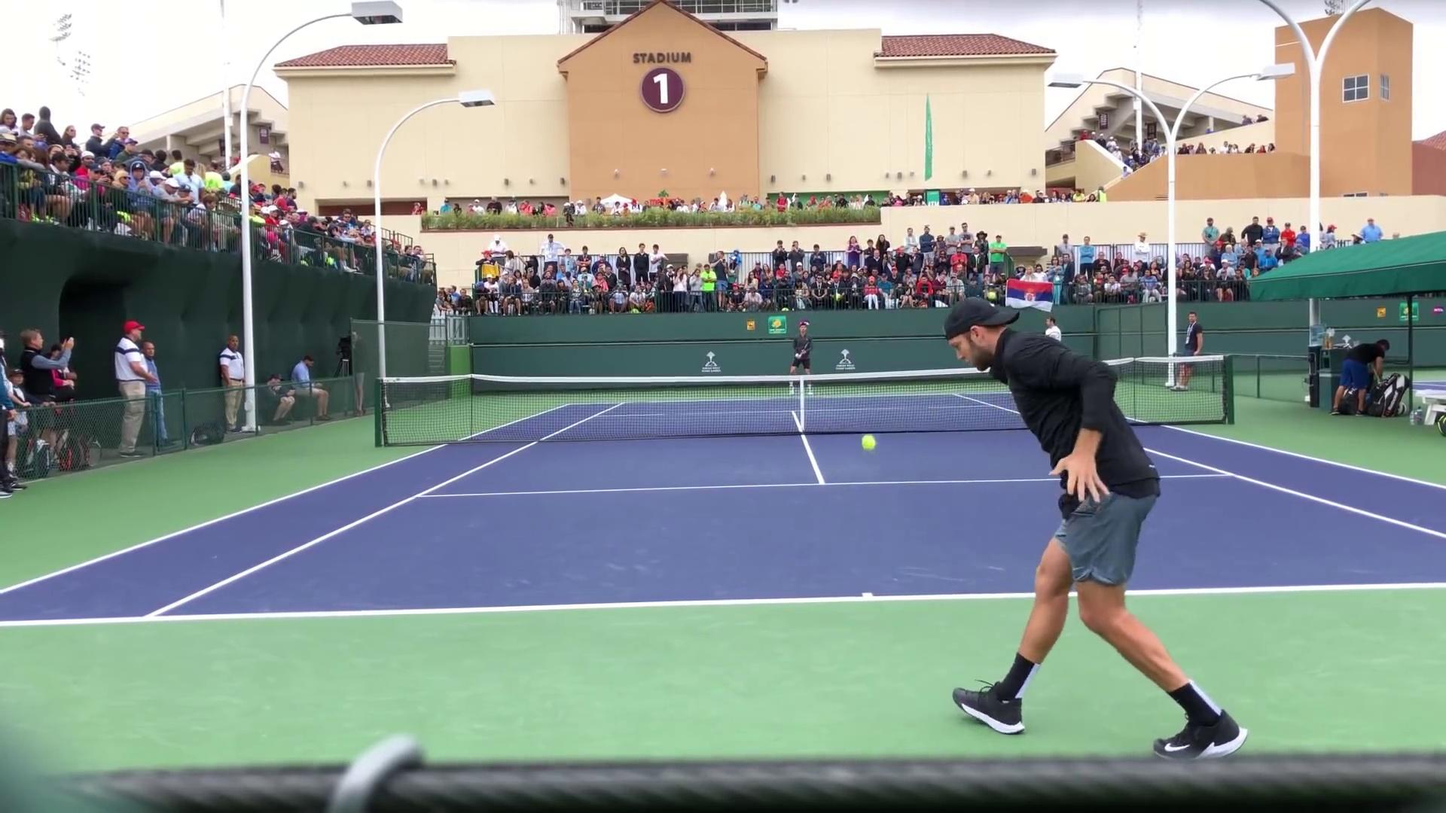ball: (859, 434, 876, 451)
